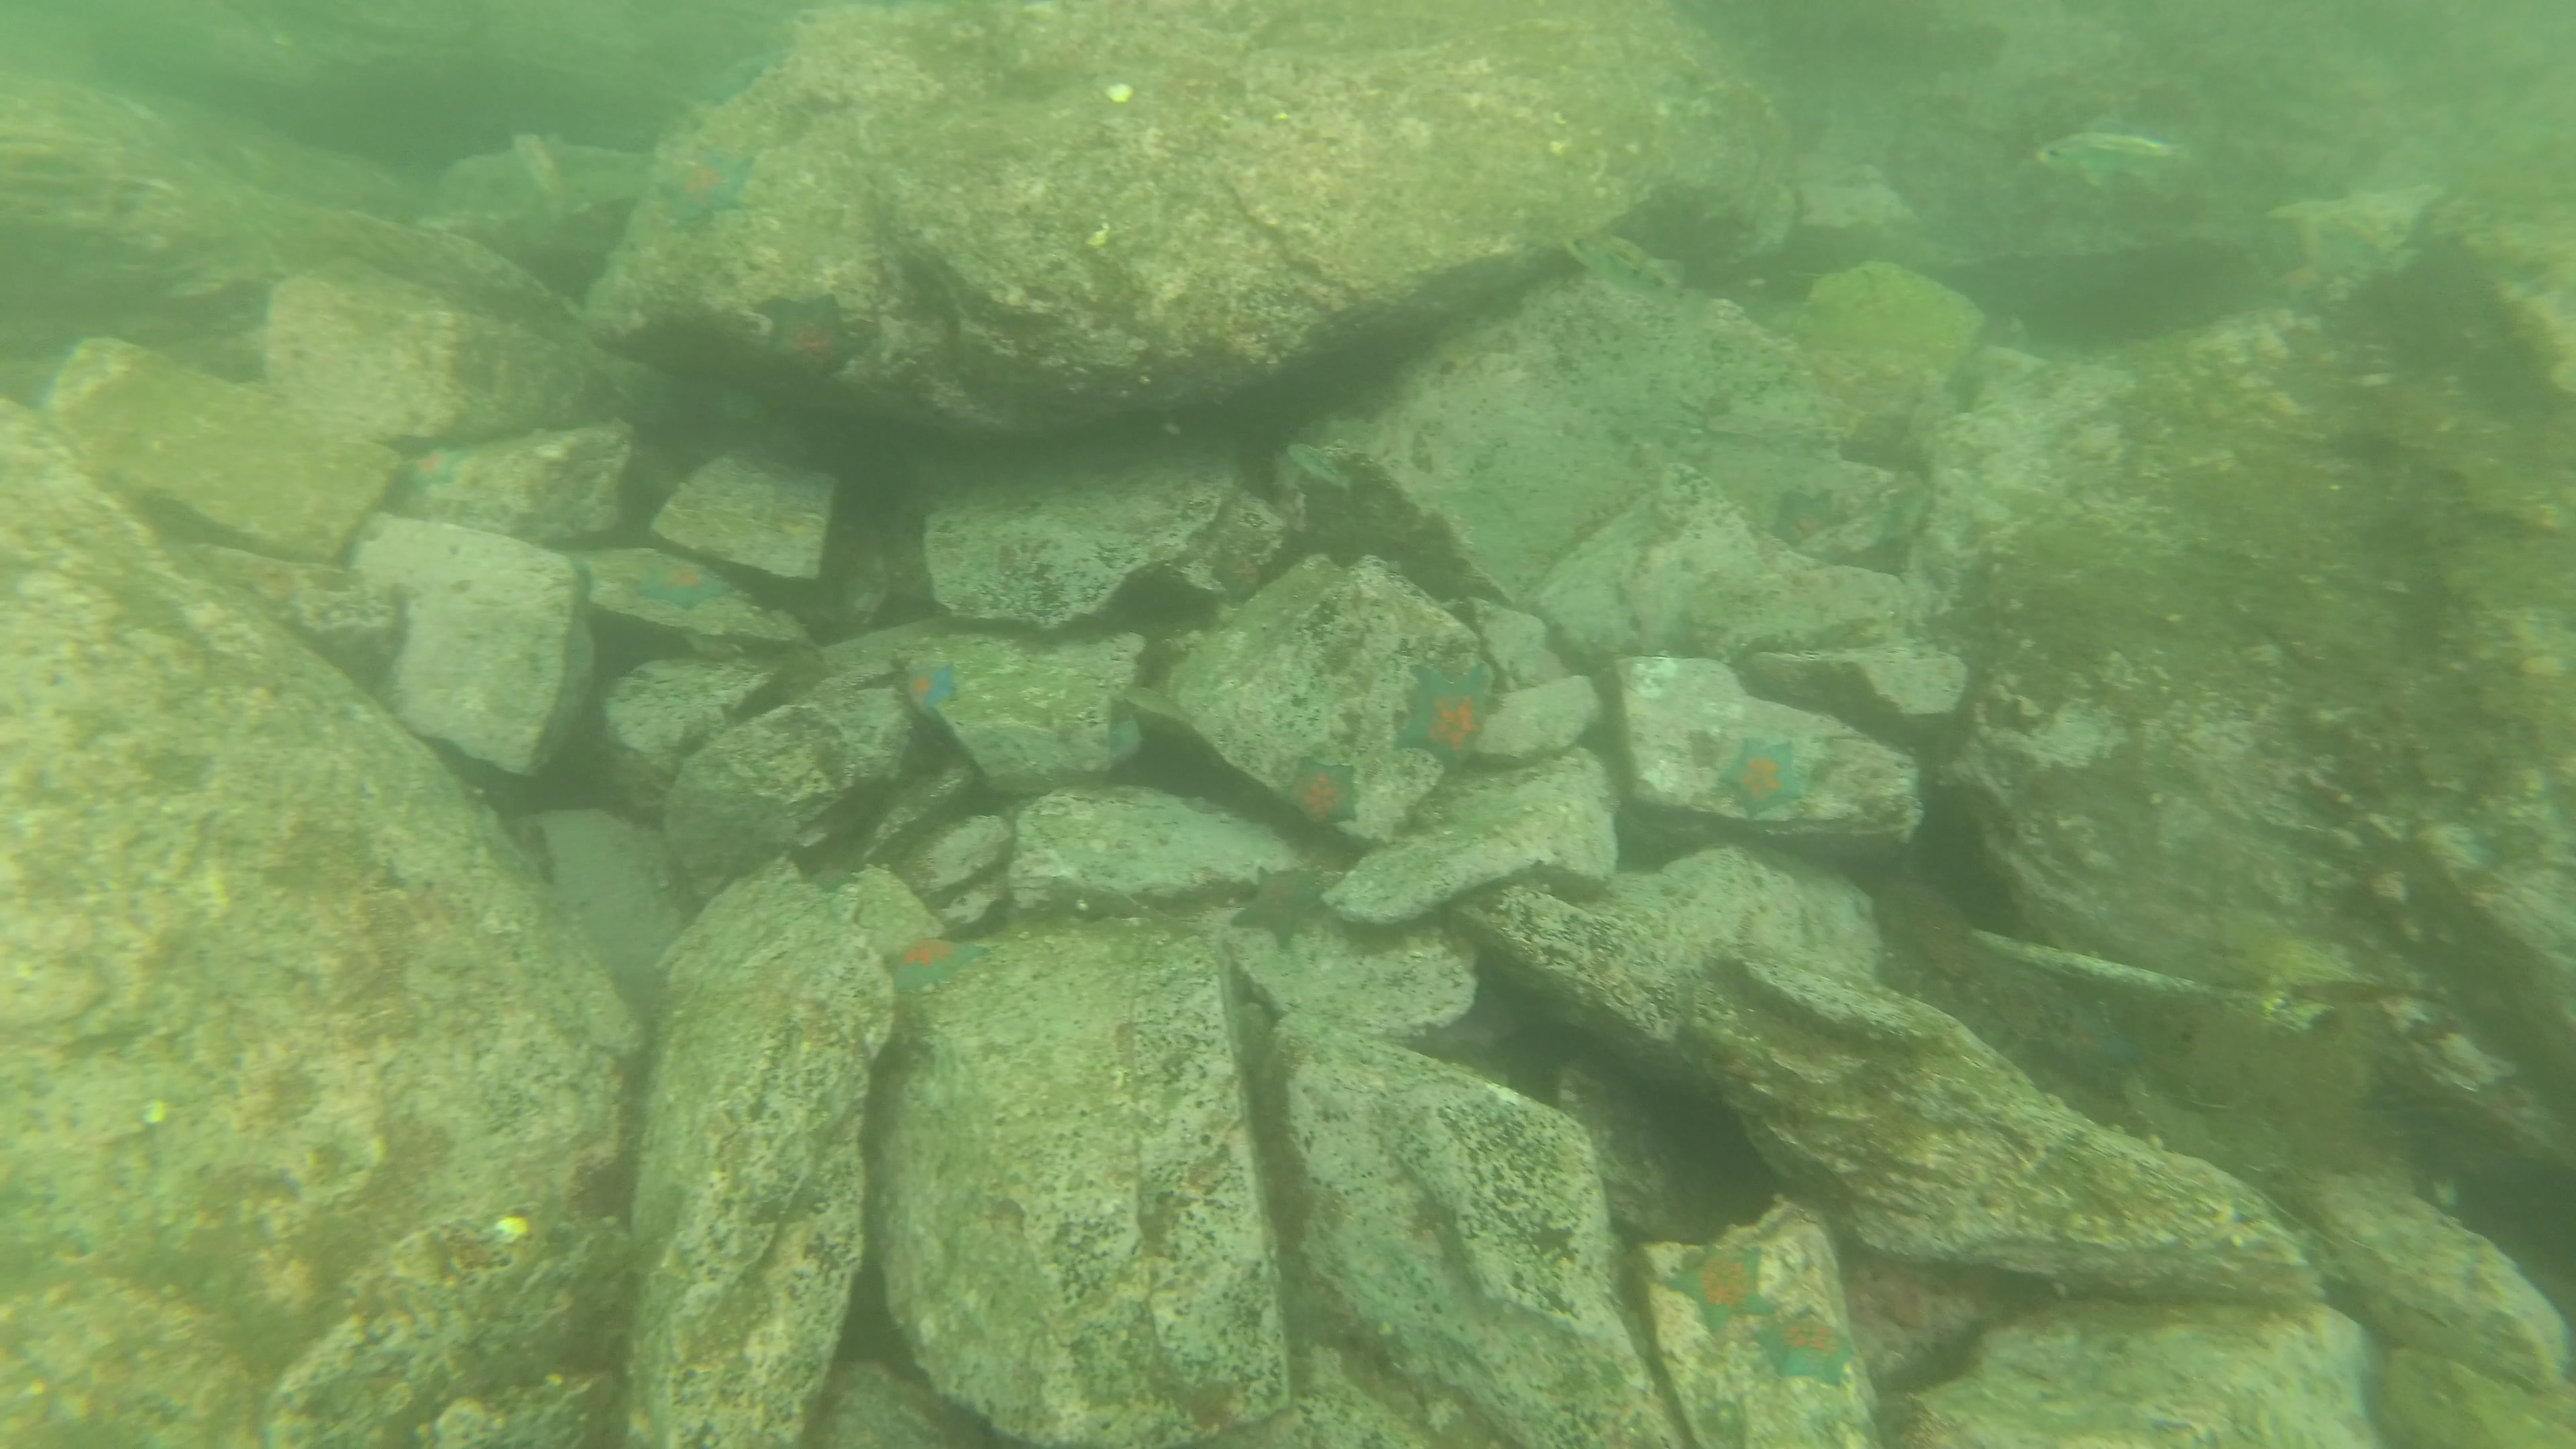starfish: (1387, 656, 1499, 778), (1663, 1240, 1783, 1336), (747, 292, 863, 389), (656, 142, 759, 230), (1226, 865, 1334, 947), (2049, 996, 2144, 1083), (1759, 1307, 1852, 1391), (1718, 734, 1806, 821), (692, 37, 796, 106), (1274, 755, 1362, 833), (881, 939, 991, 996), (1775, 481, 1847, 547), (639, 563, 738, 609), (398, 441, 469, 499), (897, 655, 964, 715), (1205, 545, 1269, 603), (1102, 709, 1152, 771)
